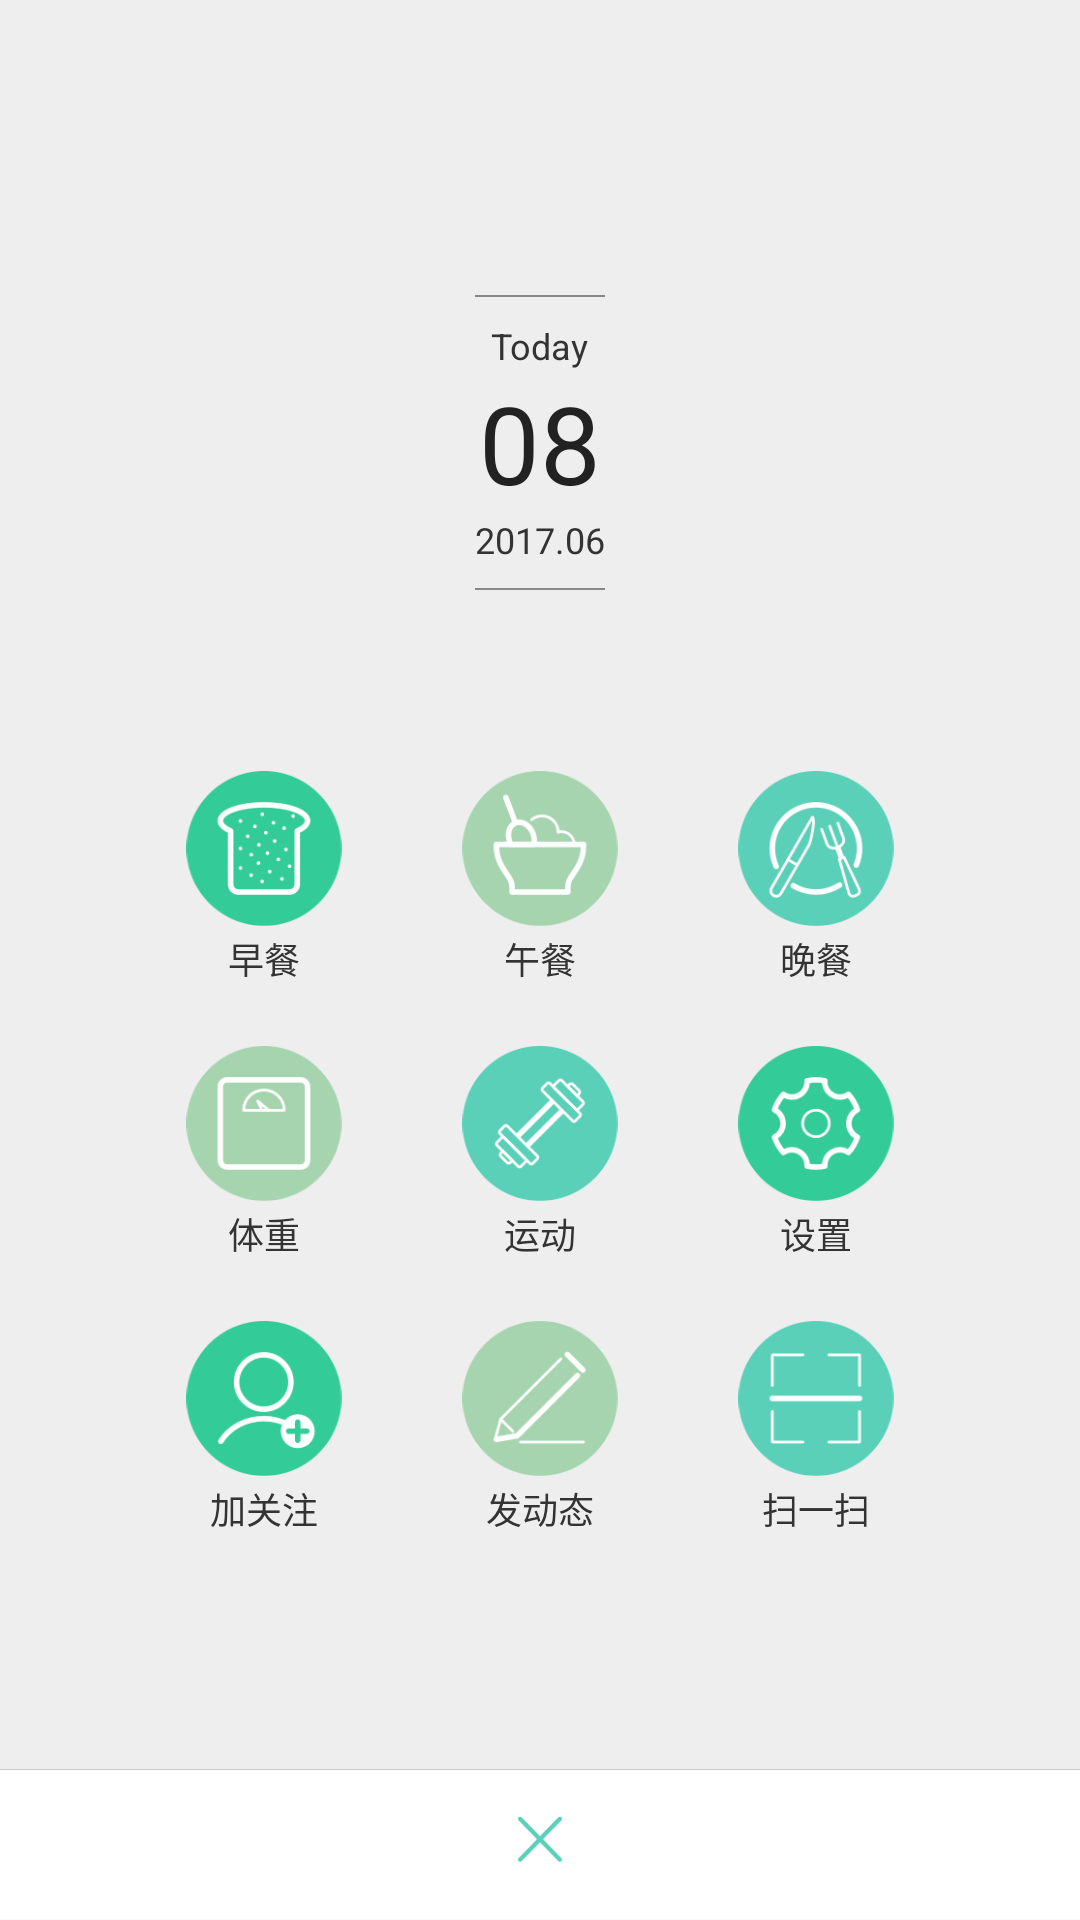

Icon bounding boxes for this 1080 x 1920 phone screenshot, format rect(x1, y1, x2, y2):
friends: rect(186, 1321, 342, 1476)
